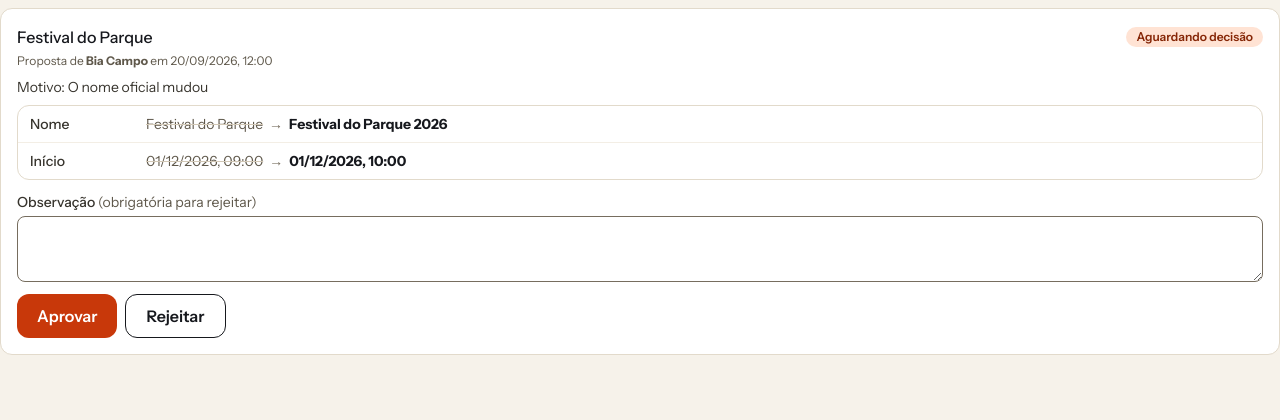
Test: ApprovalInbox › rejeitar › com o motivo, envia e avisa que quem propôs verá o que foi dito
In the text box labelled "Observação (obrigatória para rejeitar)": (640, 249) [17,216,1263,282], type "O nome só muda depois da assembleia"
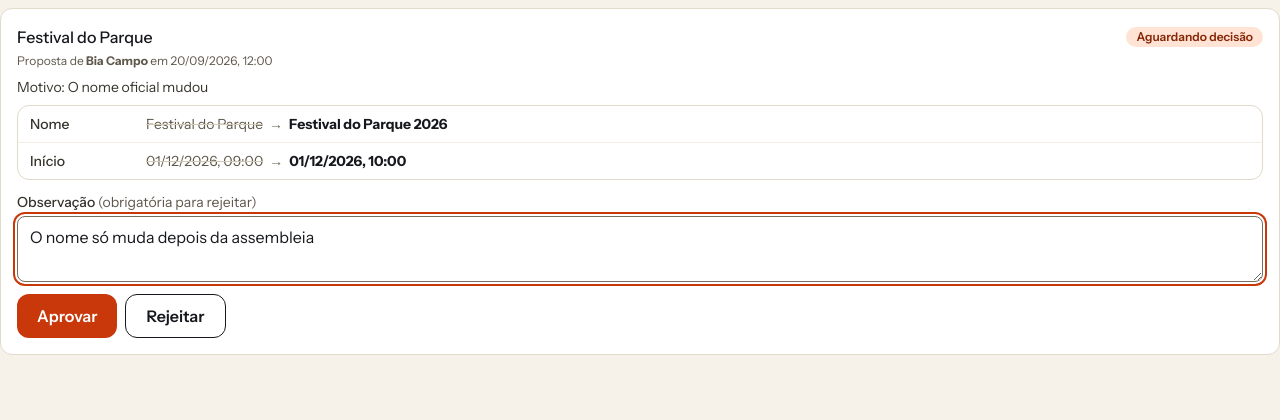
Click the button with aria-label "Rejeitar a proposta": (176, 316) [126,294,226,338]
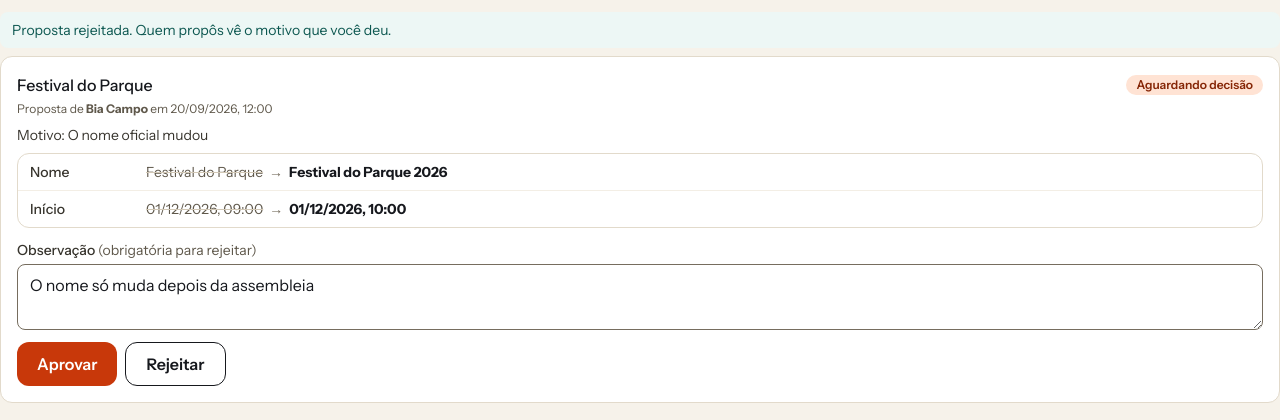
expect the message shows "Proposta rejeitada": met, box [12,21,391,39]
